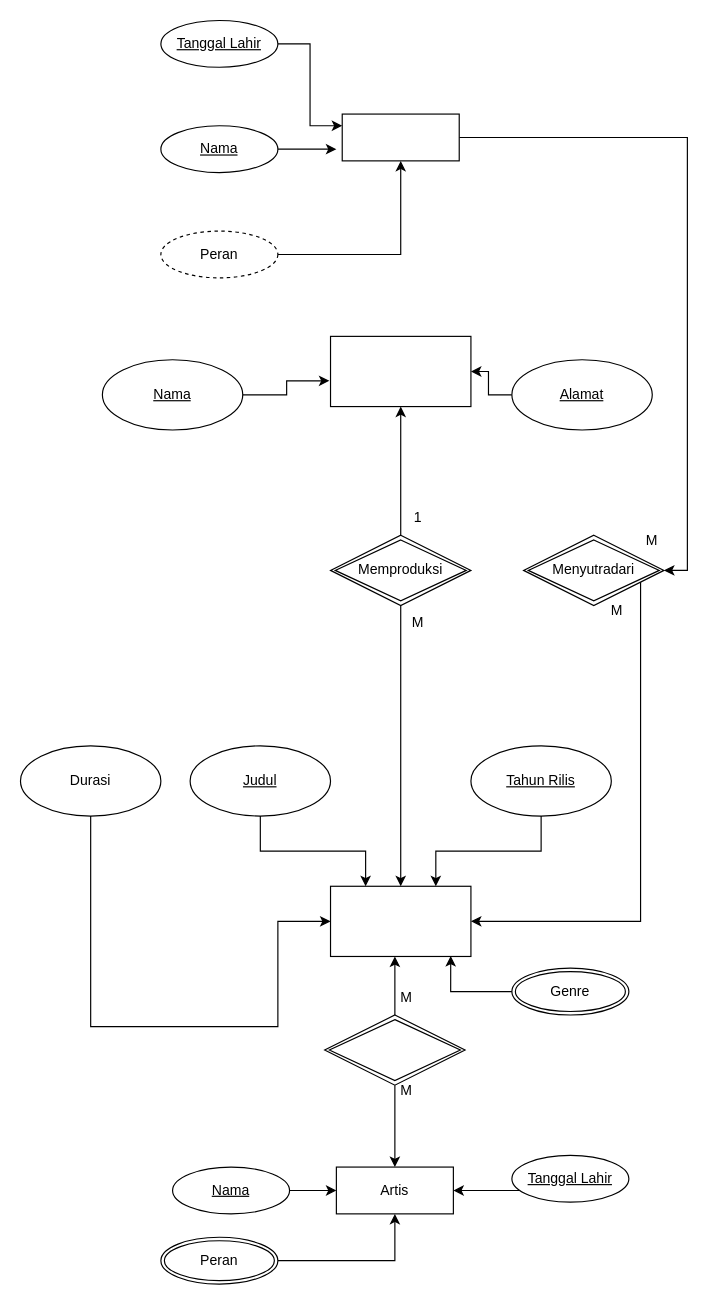
Some shapes in this 717 by 1305 pixel diagram are drawn without their labels. The shapes that lost their labels are listed below. From the top down, each one's centre as x and y in pixels, then its label:
At point (400, 137): "Sutradara Film".
At point (400, 371): "Perusahaan".
At point (400, 920): "Film".
At point (394, 1049): "Memerankan".
